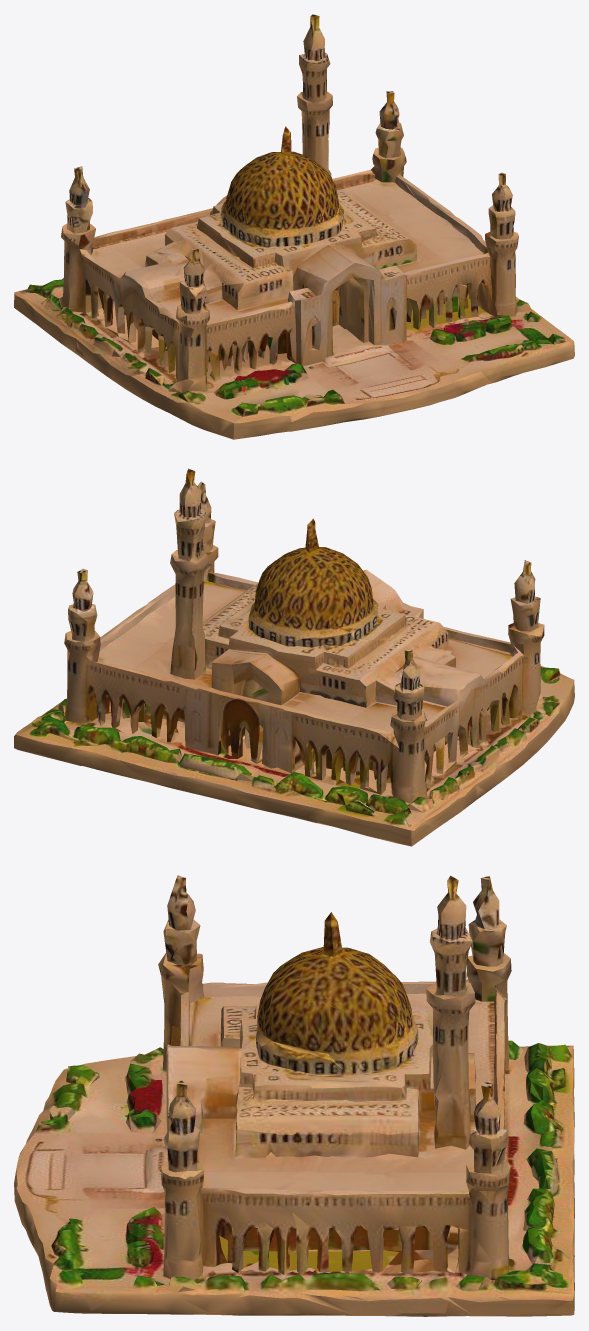
File: sultan-qaboos-grand-mosque.glb
3 views of the same model, one above another, from view 1: azimuth 30°, elevation 25°; view 2: azimuth 150°, elevation 25°; view 3: azimuth 270°, elevation 25° (orthographic). The views are drawn at different scales.
Parts seen in each view (by area): view 1: logan-textured.obj; view 2: logan-textured.obj; view 3: logan-textured.obj.
Part boxes in pixels (box(x1,y1,x2,y2)): logan-textured.obj: box(14, 14, 574, 439); logan-textured.obj: box(14, 468, 574, 846); logan-textured.obj: box(14, 875, 574, 1316).
Size of the model in its own units: 1 by 0.6699 by 0.9415.
Materials: 1 (1 with a texture image).
